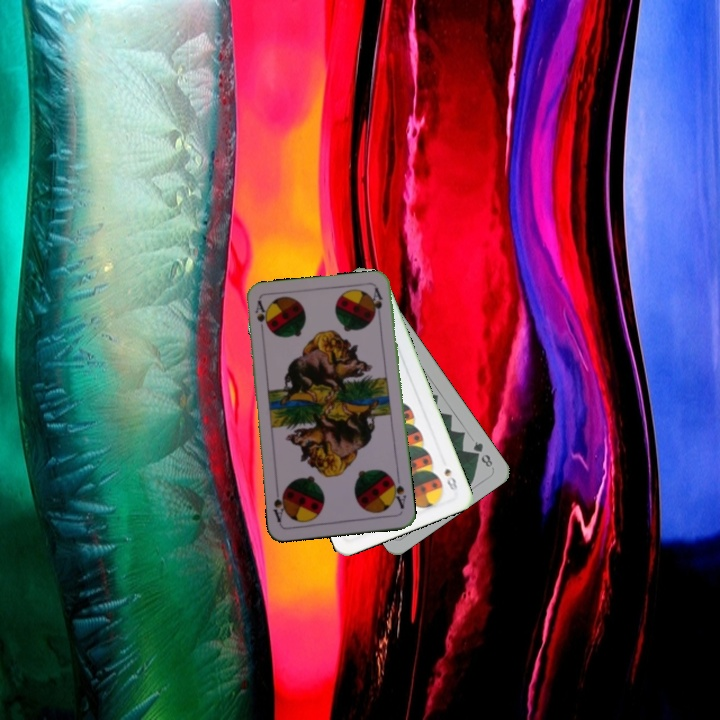G8: (469, 437, 495, 470)
S8: (440, 464, 460, 493)
SA: (387, 473, 409, 511), (251, 297, 271, 337)
